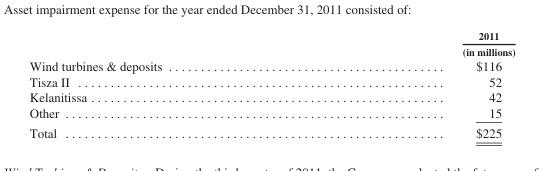table: (28, 29, 514, 140)
table column: (28, 29, 311, 140), (311, 29, 514, 140)
table column header: (28, 29, 514, 57)
table row: (28, 29, 514, 57), (28, 104, 514, 122), (28, 122, 514, 140), (28, 57, 514, 73), (28, 88, 514, 104), (28, 73, 514, 88)
